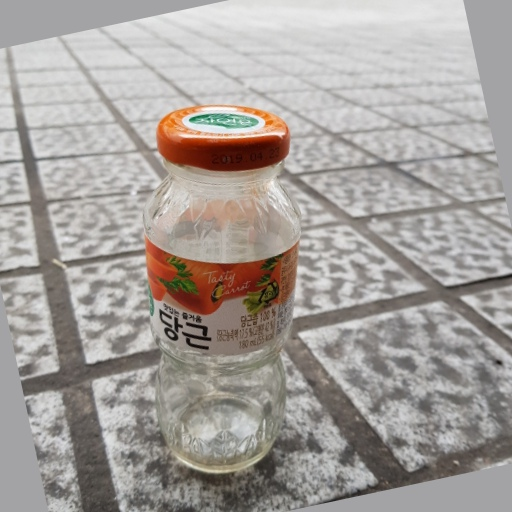Glass_4: (137, 104, 300, 475)
